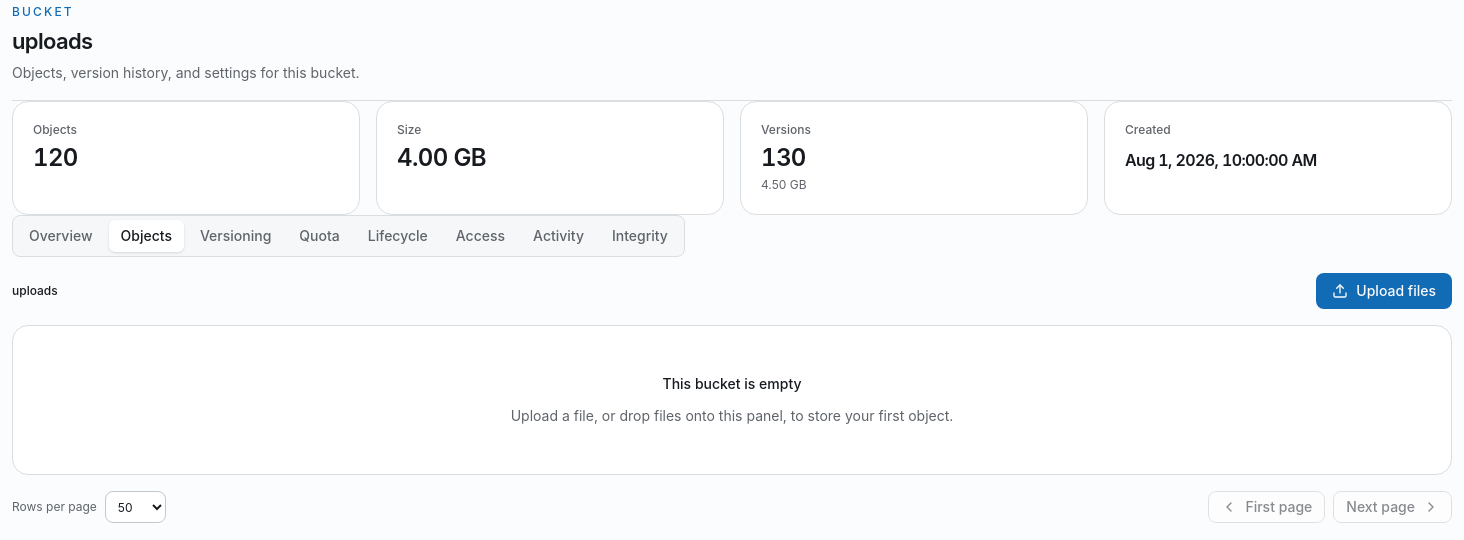
Test case: BucketDetail tabs › says a checksum cannot repair what it detects
Click the tab "Integrity" at point(640, 236), box [600,220,680,252]
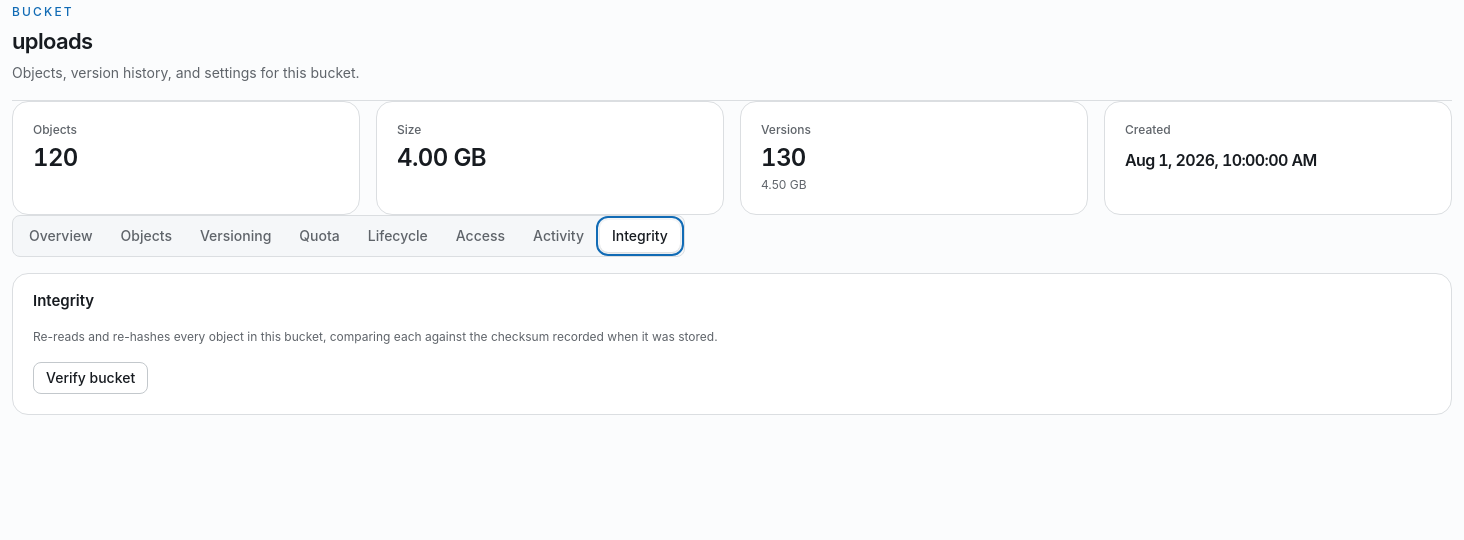
Click the button "Verify bucket" at point(91, 378), box [33,362,148,394]
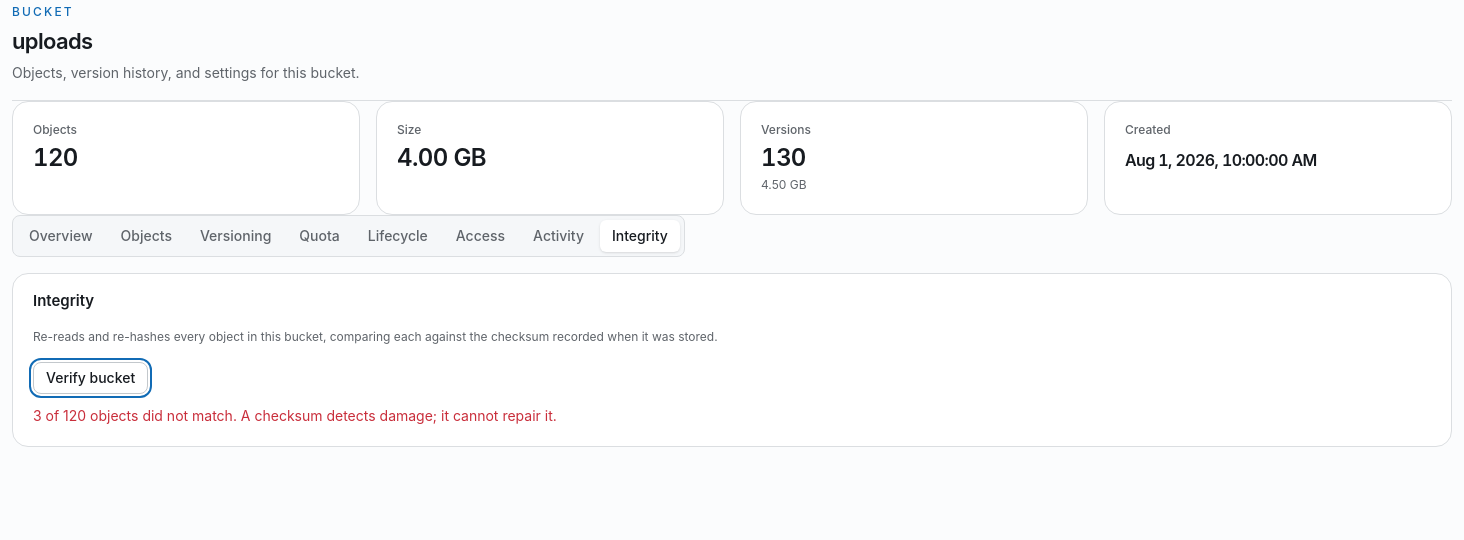
Check: the text "it cannot repair it" is shown, box [33,407,557,424]
